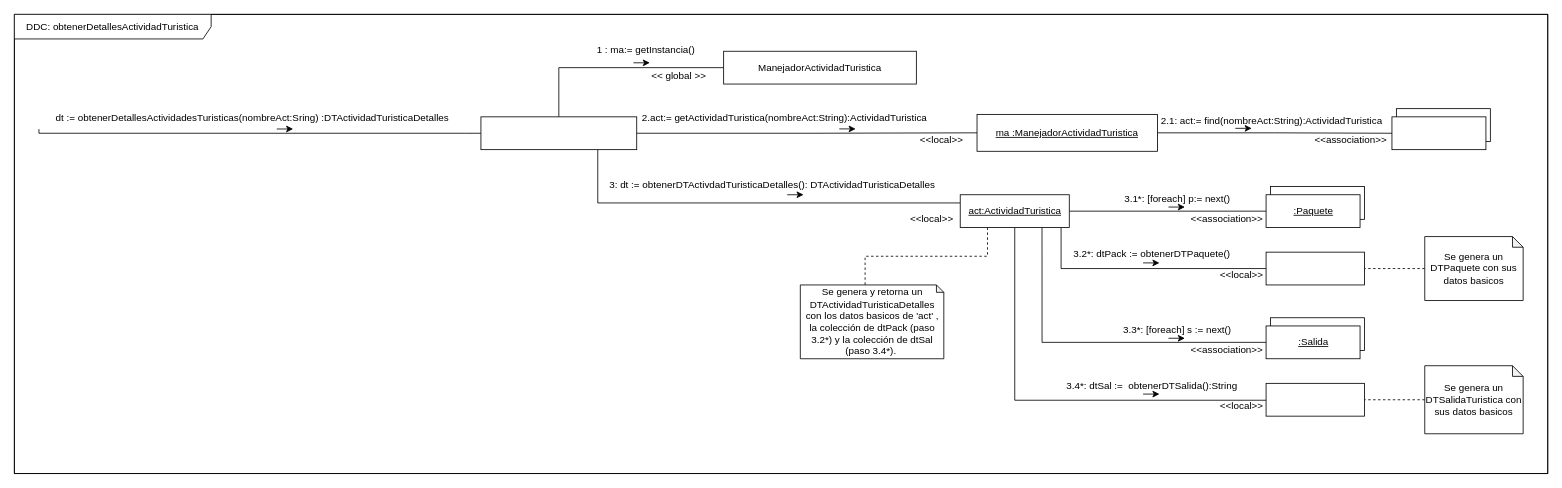
Some shapes in this 1562 by 488 pixel diagram are drawn without their labels. Here are the shapes that lost their labels. From the top down, the box of each, then its label:
(480, 116, 637, 150): :ControladorActividadTuristica
(1391, 116, 1486, 150): :ActividadTuristica
(1265, 251, 1364, 285): p:Paquete
(1265, 383, 1364, 416): sal:Salida
